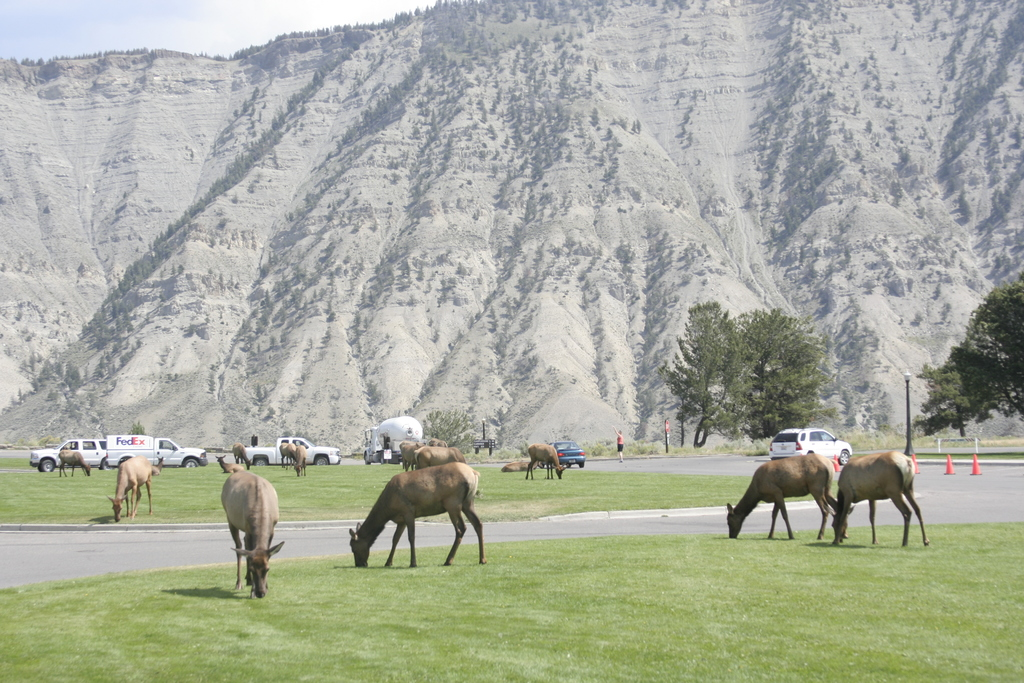horse: (347, 463, 482, 568), (723, 455, 835, 540), (837, 448, 931, 547), (217, 469, 282, 599), (108, 452, 153, 522), (524, 440, 566, 478), (56, 449, 90, 476), (293, 444, 307, 477)
